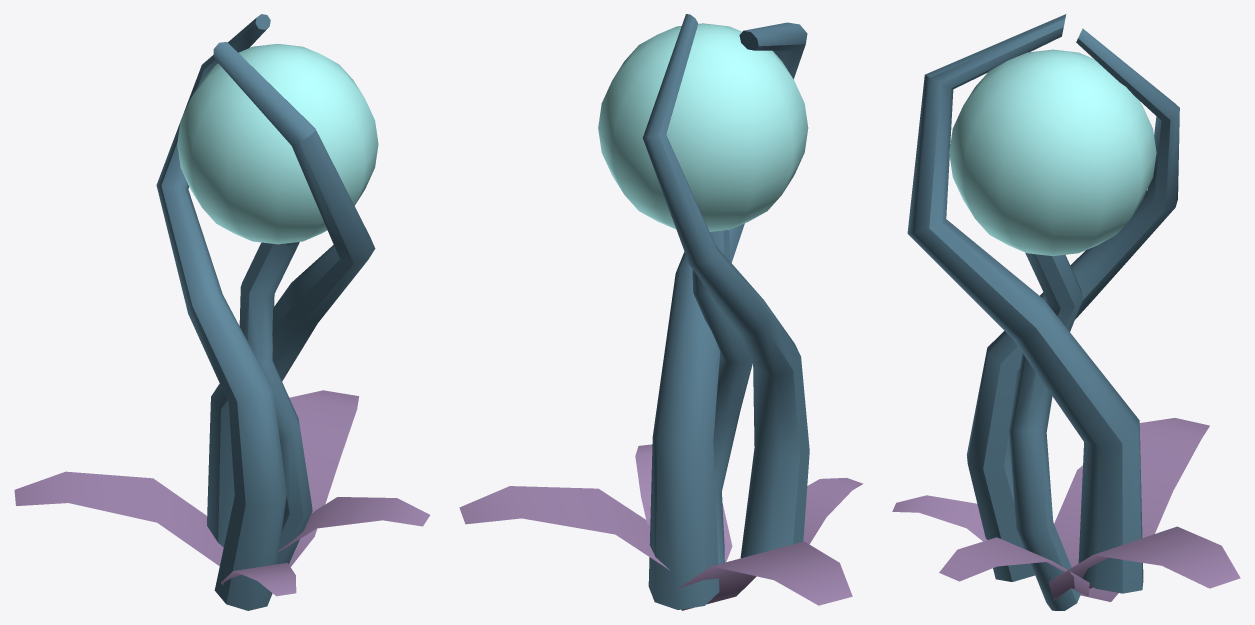
File: SM_Plant_Glitch.fbx
3 renders of one model, left to right at view 1: azimuth 30°, elevation 25°; view 2: azimuth 150°, elevation 25°; view 3: azimuth 270°, elevation 25°, orthographic. The views are drawn at different scales.
Visible parts, largest first — view 1: SM_Plant_Glitch; view 2: SM_Plant_Glitch; view 3: SM_Plant_Glitch.
Part boxes in pixels (x1,y1,x2,y2): SM_Plant_Glitch: [14, 14, 429, 610]; SM_Plant_Glitch: [459, 14, 863, 610]; SM_Plant_Glitch: [892, 14, 1240, 610].
Bounding box in the file's own units: 123 × 185 × 100.
